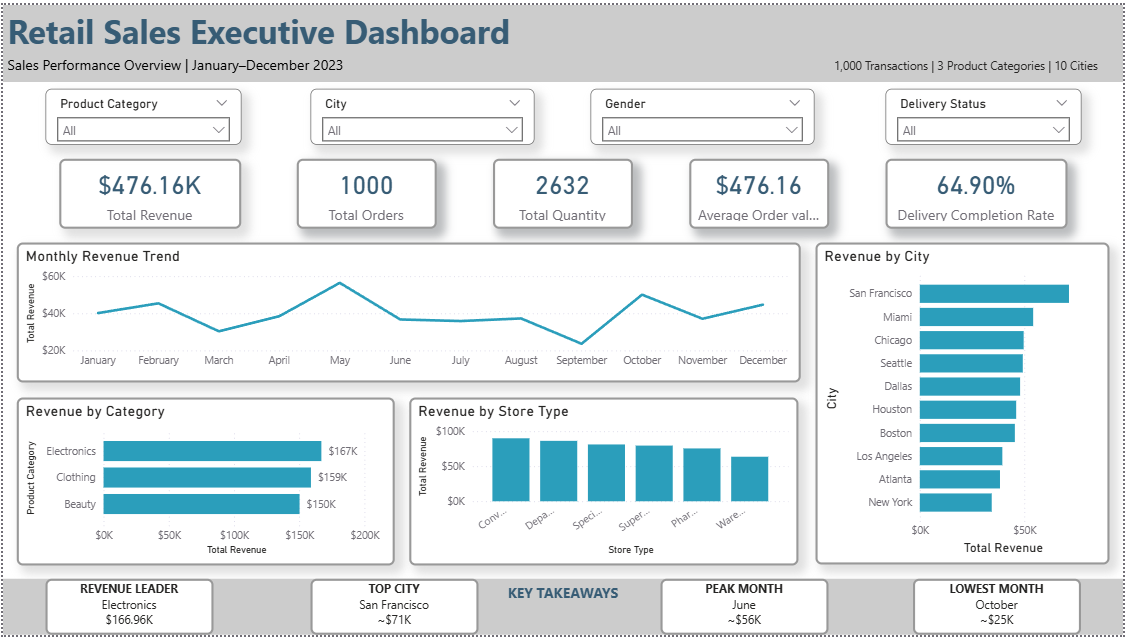

Layout of this report page (visuals, bound fields, positions):
{"tool":"powerbi","page":{"name":"Executive Dashboard","canvas":[1280,720],"ordinal":1},"visuals":[{"type":"textbox","box":[0,0,1280,80],"z":0},{"type":"card","fields":{"Values":["Retail_Sales.Total Revenue"]},"box":[64,176,208,80],"z":1000},{"type":"card","title":"Total Orders","fields":{"Values":["Retail_Sales.Total Orders"]},"box":[336,176,160,80],"z":2000},{"type":"card","title":"Units Sold","fields":{"Values":["Retail_Sales.Total Quantity"]},"box":[560,176,160,80],"z":3000},{"type":"card","title":"Average Order Value","fields":{"Values":["Retail_Sales.Average Order value"]},"box":[784,176,160,80],"z":4000},{"type":"card","title":"Delivery Completion","fields":{"Values":["Retail_Sales.Delivery Completion Rate"]},"box":[1008,176,208,80],"z":5000},{"type":"lineChart","title":"Monthly Revenue Trend","fields":{"Category":["Retail_Sales.Date.Variation.Date Hierarchy.Month"],"Y":["Retail_Sales.Total Revenue"]},"box":[16,272,896,160],"z":6000},{"type":"clusteredBarChart","title":"Revenue by Category","fields":{"Category":["Retail_Sales.Product Category"],"Y":["Retail_Sales.Total Revenue"]},"box":[16,448,432,192],"z":7000},{"type":"clusteredBarChart","title":"Revenue by City","fields":{"Category":["Retail_Sales.City"],"Y":["Retail_Sales.Total Revenue"]},"box":[928,272,336,368],"z":8000},{"type":"clusteredColumnChart","title":"Revenue by Store Type","fields":{"Y":["Retail_Sales.Total Revenue"],"Category":["Retail_Sales.Store Type"]},"box":[464,448,445,192],"z":9000},{"type":"slicer","fields":{"Values":["Retail_Sales.Product Category"]},"box":[48,96,224,64],"z":10000},{"type":"slicer","fields":{"Values":["Retail_Sales.City"]},"box":[352,96,256,64],"z":11000},{"type":"slicer","fields":{"Values":["Retail_Sales.Gender"]},"box":[672,96,256,64],"z":12000},{"type":"slicer","fields":{"Values":["Retail_Sales.Delivery Status"]},"box":[1008,96,224,64],"z":13000},{"type":"textbox","box":[0,656,1280,64],"z":15000},{"type":"textbox","box":[48,656,192,64],"z":16000},{"type":"textbox","box":[352,656,192,64],"z":17000},{"type":"textbox","box":[752,656,192,64],"z":18000},{"type":"textbox","box":[1040,656,192,64],"z":19000}]}

Visuals, with their boxes in screenshot pixels (x1, y1, x2, y2), scaled from the page's 1280x720 canvas onto the 1128x641 screenshot:
textbox: [x1=0, y1=0, x2=1127, y2=71]
card - Retail_Sales.Total Revenue: [x1=56, y1=157, x2=240, y2=228]
"Total Orders" card: [x1=296, y1=157, x2=437, y2=228]
"Units Sold" card: [x1=494, y1=157, x2=634, y2=228]
"Average Order Value" card: [x1=691, y1=157, x2=832, y2=228]
"Delivery Completion" card: [x1=888, y1=157, x2=1072, y2=228]
"Monthly Revenue Trend" lineChart: [x1=14, y1=242, x2=804, y2=385]
"Revenue by Category" clusteredBarChart: [x1=14, y1=399, x2=395, y2=570]
"Revenue by City" clusteredBarChart: [x1=818, y1=242, x2=1114, y2=570]
"Revenue by Store Type" clusteredColumnChart: [x1=409, y1=399, x2=801, y2=570]
slicer - Retail_Sales.Product Category: [x1=42, y1=85, x2=240, y2=142]
slicer - Retail_Sales.City: [x1=310, y1=85, x2=536, y2=142]
slicer - Retail_Sales.Gender: [x1=592, y1=85, x2=818, y2=142]
slicer - Retail_Sales.Delivery Status: [x1=888, y1=85, x2=1086, y2=142]
textbox: [x1=0, y1=584, x2=1127, y2=640]
textbox: [x1=42, y1=584, x2=212, y2=640]
textbox: [x1=310, y1=584, x2=479, y2=640]
textbox: [x1=663, y1=584, x2=832, y2=640]
textbox: [x1=916, y1=584, x2=1086, y2=640]
